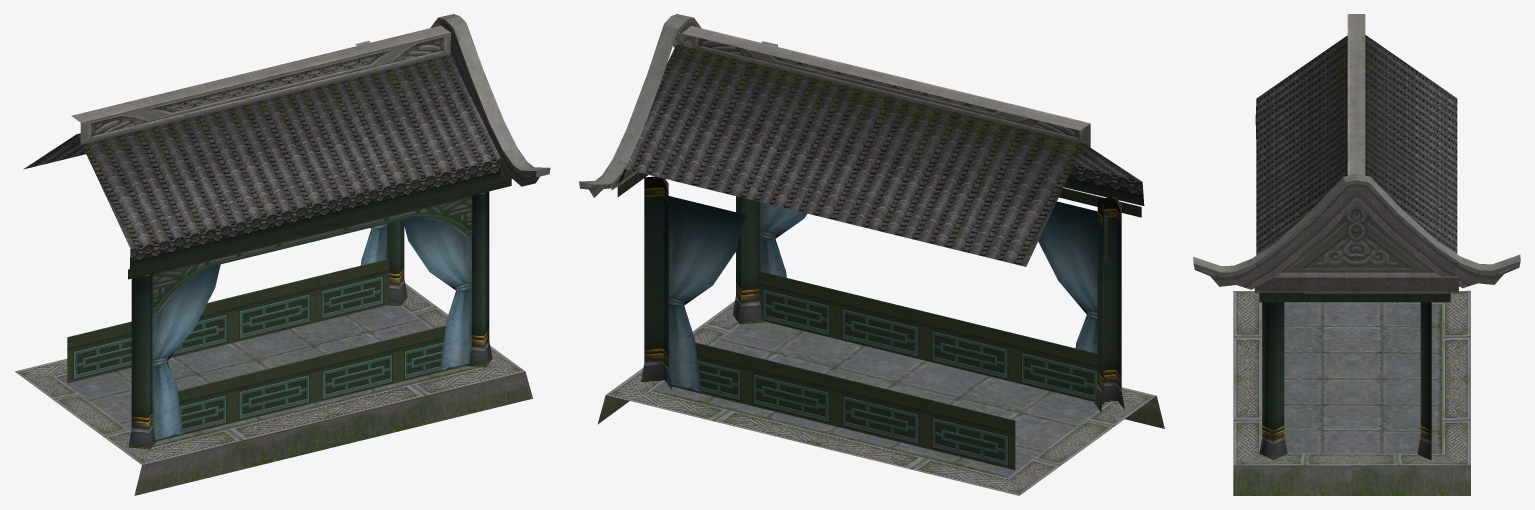
Rendered from yw_yanziwu_changlang01.FBX.
3 views of the same model, side by side, from view 1: azimuth 30°, elevation 25°; view 2: azimuth 150°, elevation 25°; view 3: azimuth 270°, elevation 25° (orthographic). The views are drawn at different scales.
Visible parts, largest first — view 1: yw_yanziwu_changlang01; view 2: yw_yanziwu_changlang01; view 3: yw_yanziwu_changlang01.
Boxes of the visible parts, x1,y1,x2,y2 form: yw_yanziwu_changlang01: (15,14,550,495); yw_yanziwu_changlang01: (579,14,1164,495); yw_yanziwu_changlang01: (1193,14,1520,495).
Bounding box in the file's own units: 515 × 414 × 393.
